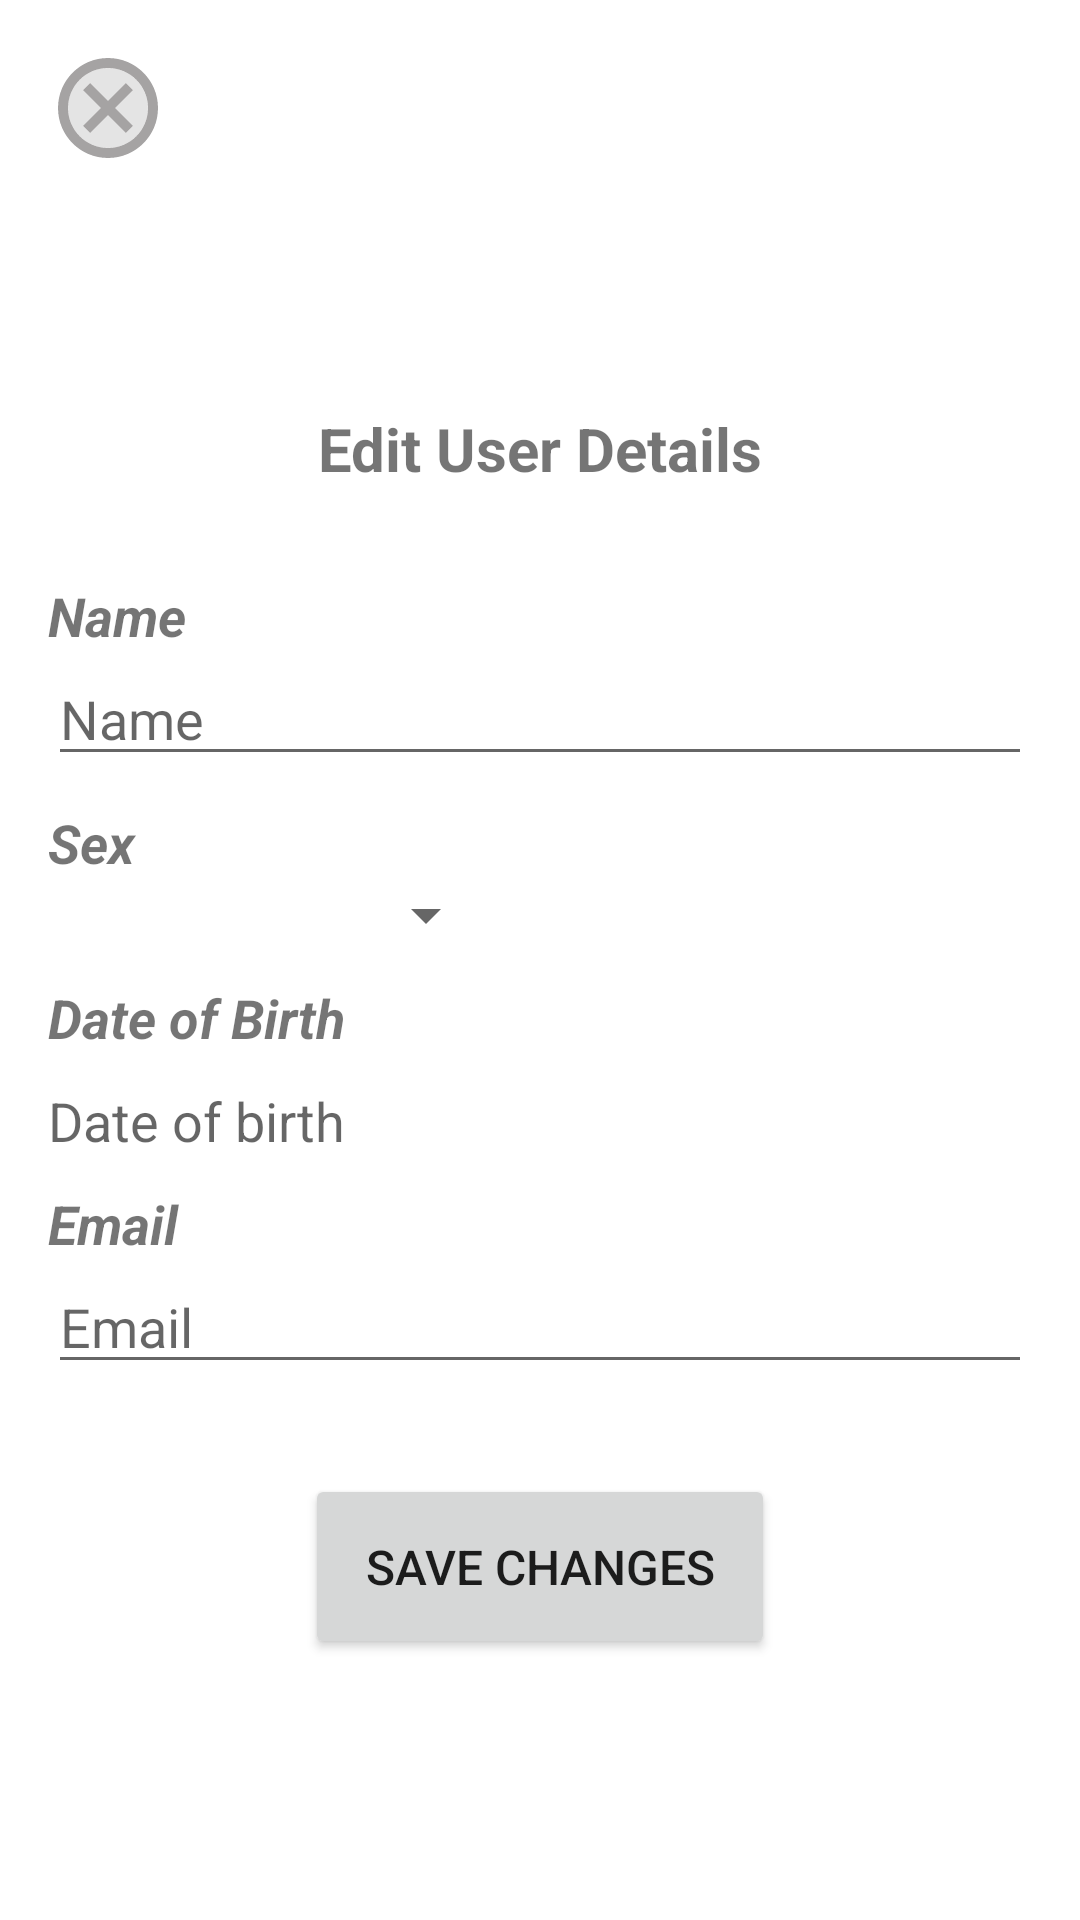

Locate icon controls on the screen. Image size 1080w x 1920h, boxes as (x1, y1, x2, y2).
cancel: (58, 58, 158, 158)
